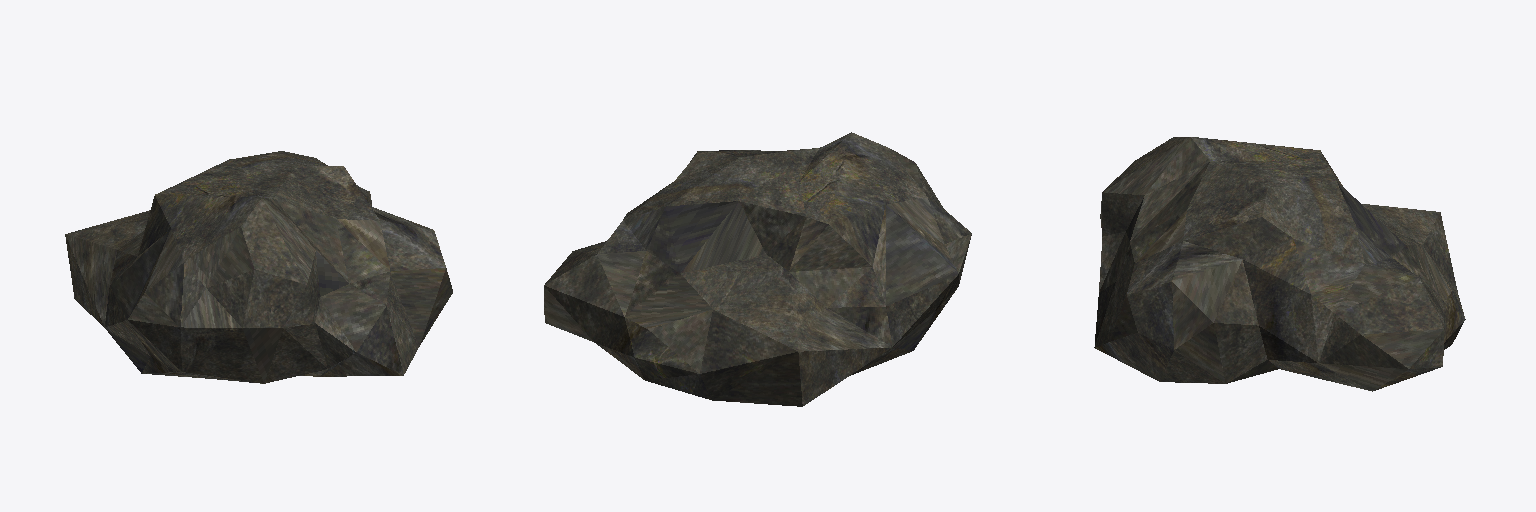
The picture shows the model from 3 angles: view 1: azimuth 30°, elevation 25°; view 2: azimuth 150°, elevation 25°; view 3: azimuth 270°, elevation 25°; orthographic projection.
Visible parts, largest first — view 1: Cube; view 2: Cube; view 3: Cube.
Part boxes in pixels (bbox=[...]): Cube: bbox=[65, 151, 452, 383]; Cube: bbox=[544, 132, 971, 406]; Cube: bbox=[1094, 137, 1465, 391].
Bounding box in the file's own units: 5.31 × 3.19 × 5.35.
1 materials, 1 textured.